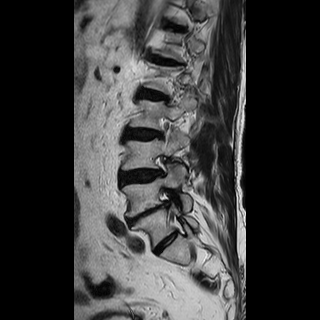LFS0: (144, 151, 176, 185)
